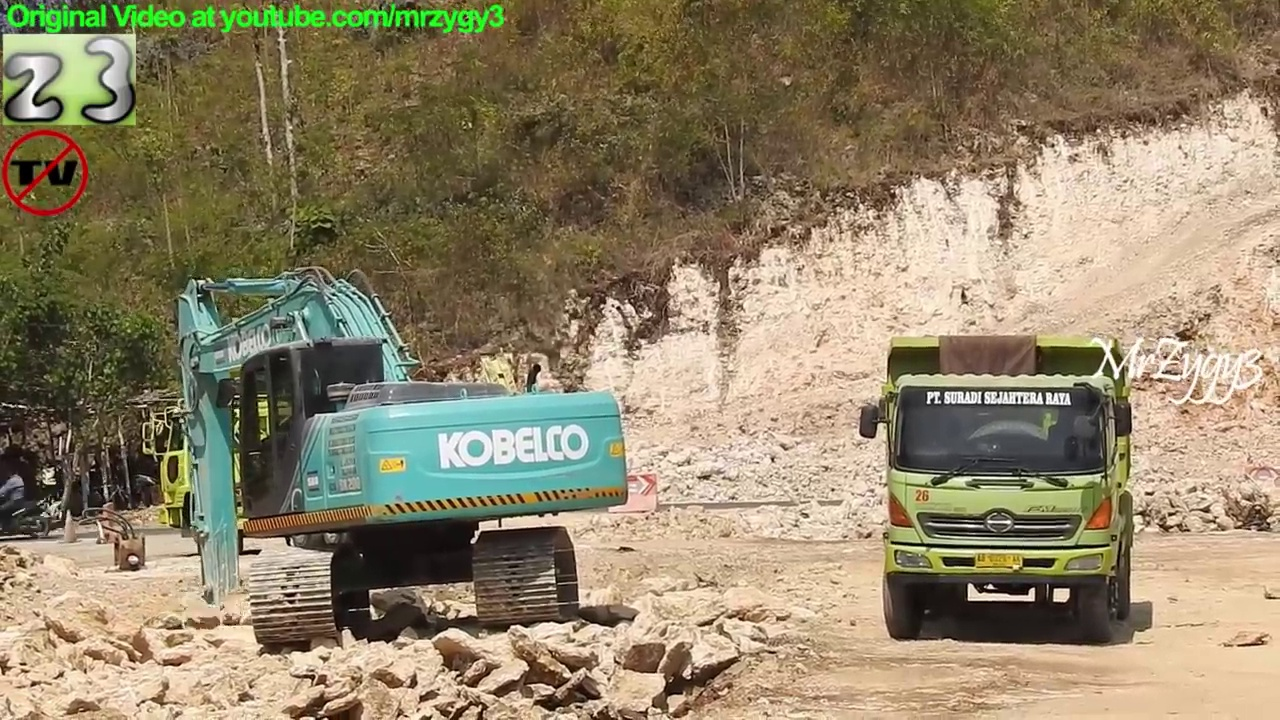excavator: (165, 262, 638, 659)
truck: (857, 328, 1140, 648), (134, 368, 565, 559)
